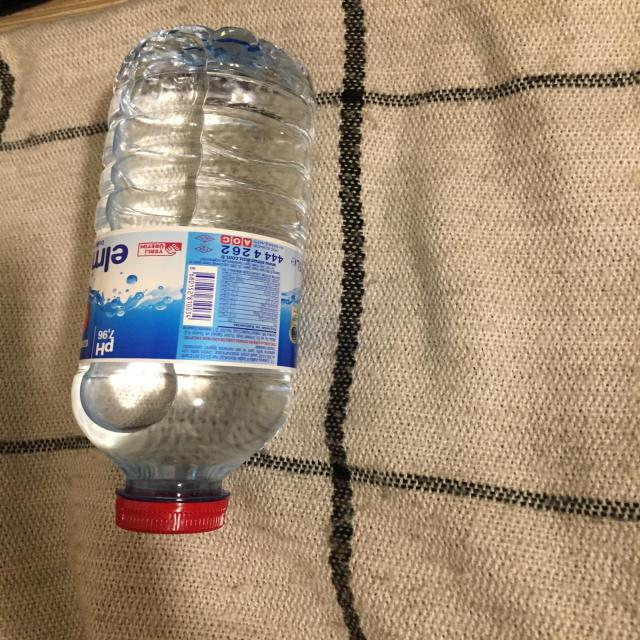bottle: (62, 22, 315, 552)
